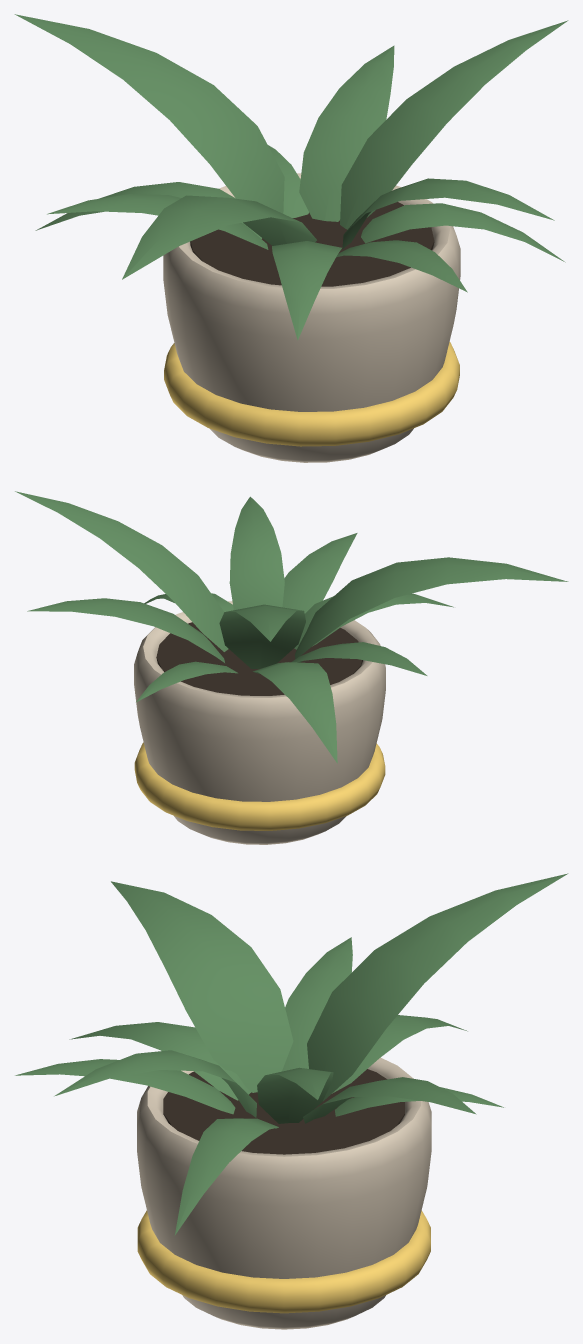
The model's file is plant_small.glb.
3 renders of one model, top to bottom at view 1: azimuth 30°, elevation 25°; view 2: azimuth 150°, elevation 25°; view 3: azimuth 270°, elevation 25°, orthographic. The views are drawn at different scales.
Visible parts, largest first — view 1: plant_small; view 2: plant_small; view 3: plant_small.
Part boxes in pixels (x1,y1,x2,y2): plant_small: [14, 14, 568, 462]; plant_small: [15, 491, 568, 844]; plant_small: [15, 873, 568, 1329].
Size of the model in its own units: 0.3799 by 0.2278 by 0.3323.
